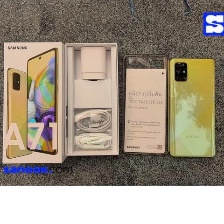book: (60, 39, 123, 160), (119, 65, 170, 156)
carton: (0, 38, 66, 166)
phone: (165, 55, 218, 160)
